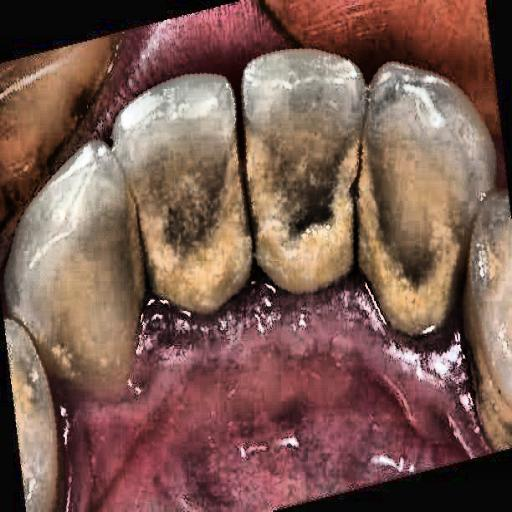Calculus: (74, 126, 496, 444)
